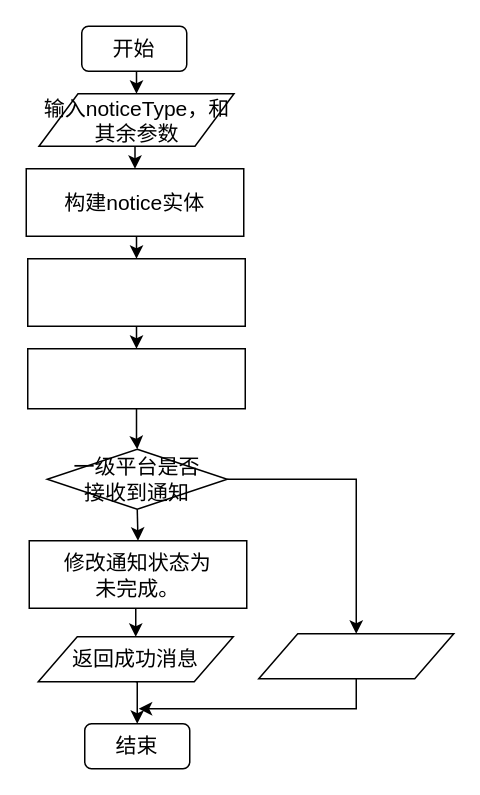
Image size: 480x795. Some labels were removed from this diagram. Each missing label, with the box of its shape:
插入数据库，通知状态置为未发送。: (26, 257, 245, 326)
获取url，附上参数，发送请求，等待结果。: (26, 347, 245, 409)
返回失败消息: (257, 632, 454, 679)
